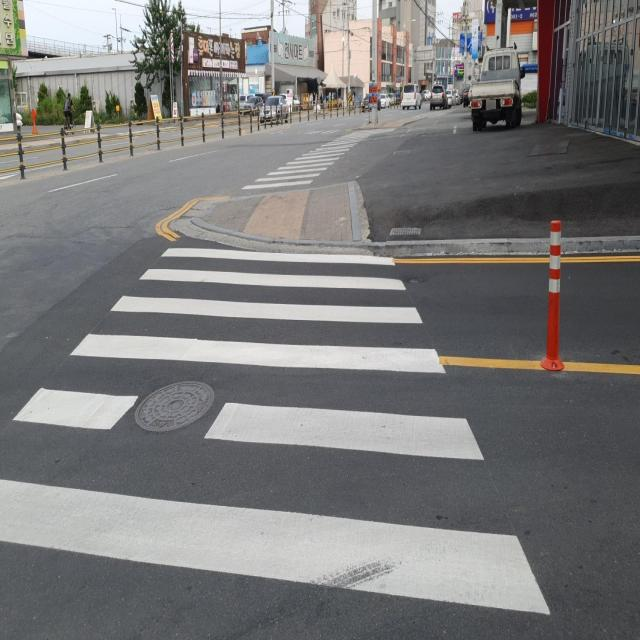횡단보도: (0, 238, 555, 625), (245, 130, 392, 202)
